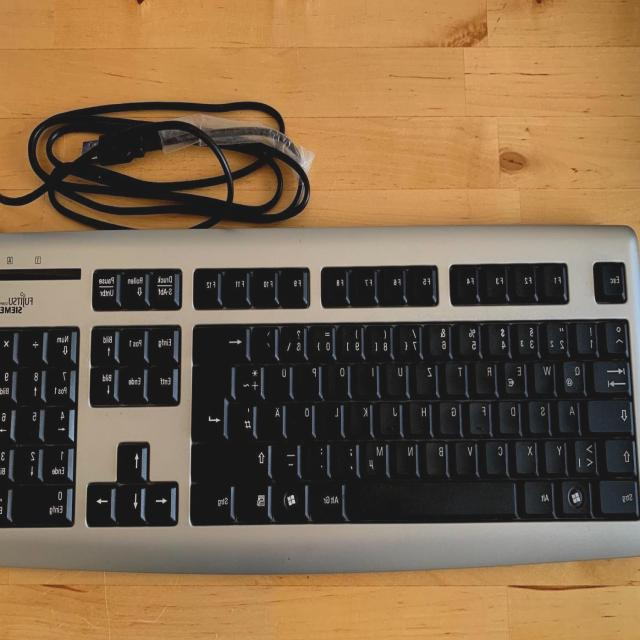0: (314, 321, 338, 357)
1: (577, 318, 601, 354)
2: (547, 318, 571, 354)
3: (518, 319, 542, 355)
4: (489, 319, 513, 355)
5: (460, 319, 484, 355)
6: (429, 320, 454, 356)
7: (400, 320, 424, 356)
8: (371, 321, 395, 357)
9: (342, 321, 367, 357)
a: (560, 396, 583, 432)
accent: (256, 323, 280, 356)
ae: (263, 399, 288, 435)
alt-left: (525, 477, 557, 515)
altgr-right: (315, 478, 347, 516)
b: (426, 437, 451, 475)
c: (486, 437, 510, 473)
caret: (606, 317, 630, 353)
comma: (338, 437, 362, 475)
d: (501, 397, 523, 433)
del: (197, 322, 251, 358)
e: (505, 358, 529, 394)
enter: (196, 360, 237, 438)
f: (470, 398, 494, 434)
g: (441, 398, 465, 434)
h: (411, 398, 435, 434)
hash: (234, 400, 259, 436)
i: (359, 360, 381, 394)
j: (381, 398, 404, 434)
k: (351, 398, 375, 434)
keyboard: (0, 223, 640, 575)
l: (322, 399, 346, 435)
less: (576, 435, 600, 473)
m: (366, 437, 391, 475)
minus: (278, 439, 303, 475)
n: (397, 438, 421, 474)
o: (329, 360, 353, 395)
oe: (293, 399, 317, 435)
p: (300, 361, 324, 396)
plus: (242, 361, 267, 397)
point: (308, 438, 332, 474)
q: (564, 357, 588, 393)
r: (476, 358, 500, 394)
s: (529, 397, 553, 433)
shift-left: (607, 436, 638, 472)
shift-lock: (589, 396, 635, 432)
shift-right: (195, 440, 272, 476)
space: (352, 478, 520, 516)
ss: (285, 321, 309, 357)
strg-left: (600, 475, 640, 513)
strg-right: (194, 481, 237, 519)
t: (446, 358, 470, 394)
tab: (593, 355, 632, 393)
u: (387, 359, 411, 395)
ue: (271, 360, 296, 396)
v: (457, 438, 481, 474)
w: (535, 358, 558, 393)
x: (516, 437, 540, 473)
y: (546, 437, 570, 473)
z: (417, 359, 440, 394)
